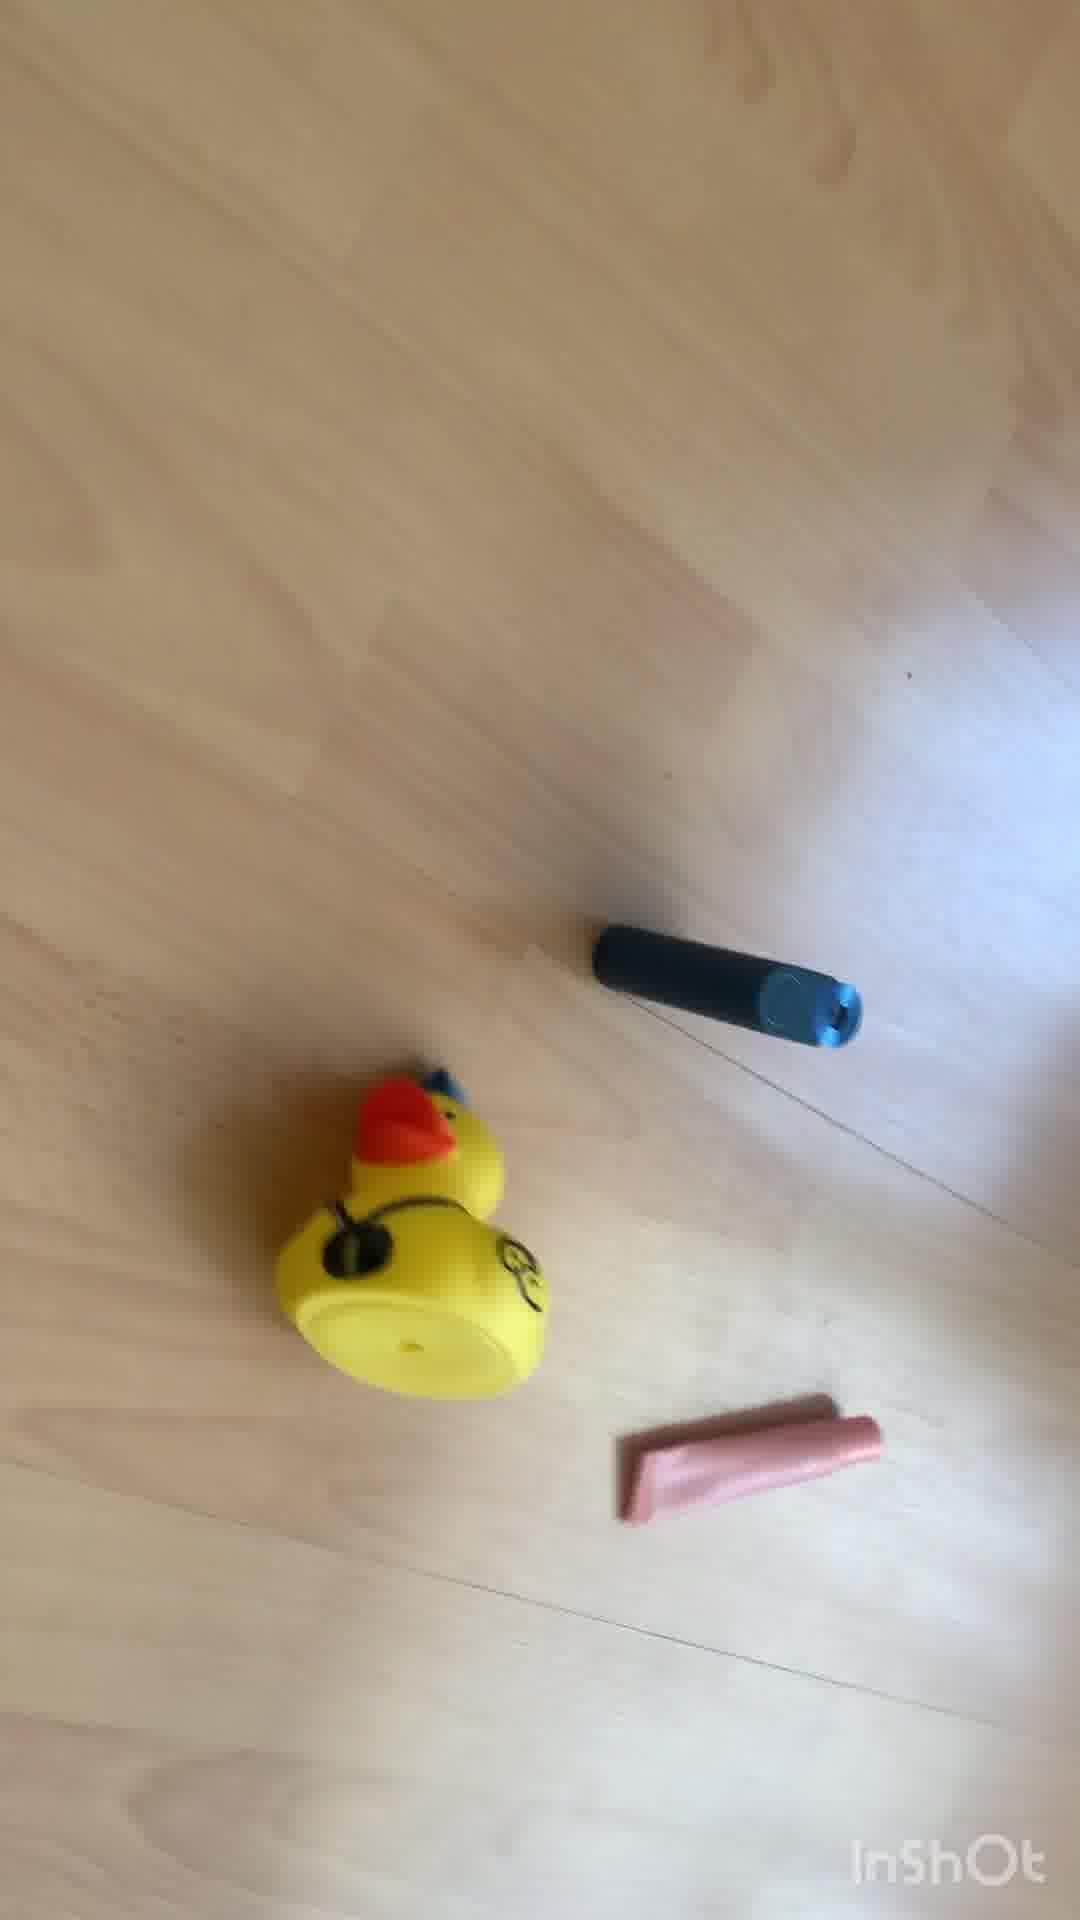duck: (280, 1046, 564, 1414)
glo: (595, 931, 890, 1048)
lip balm: (618, 1387, 895, 1544)
